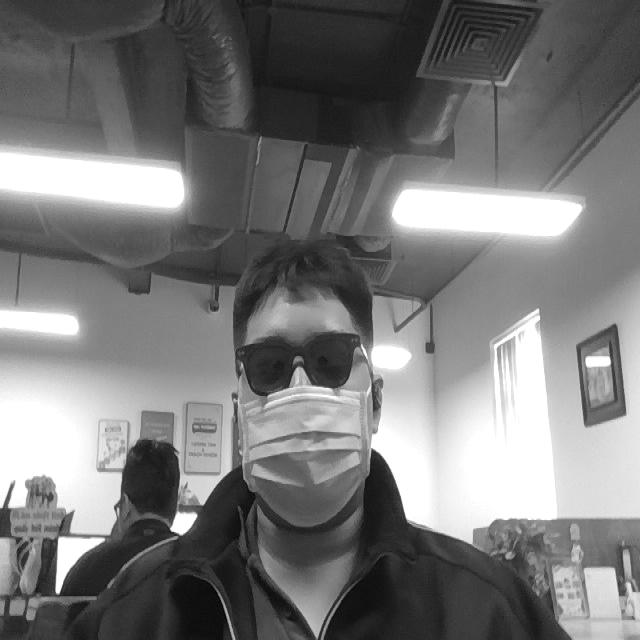fake: (235, 392, 373, 529), (235, 332, 365, 390)
